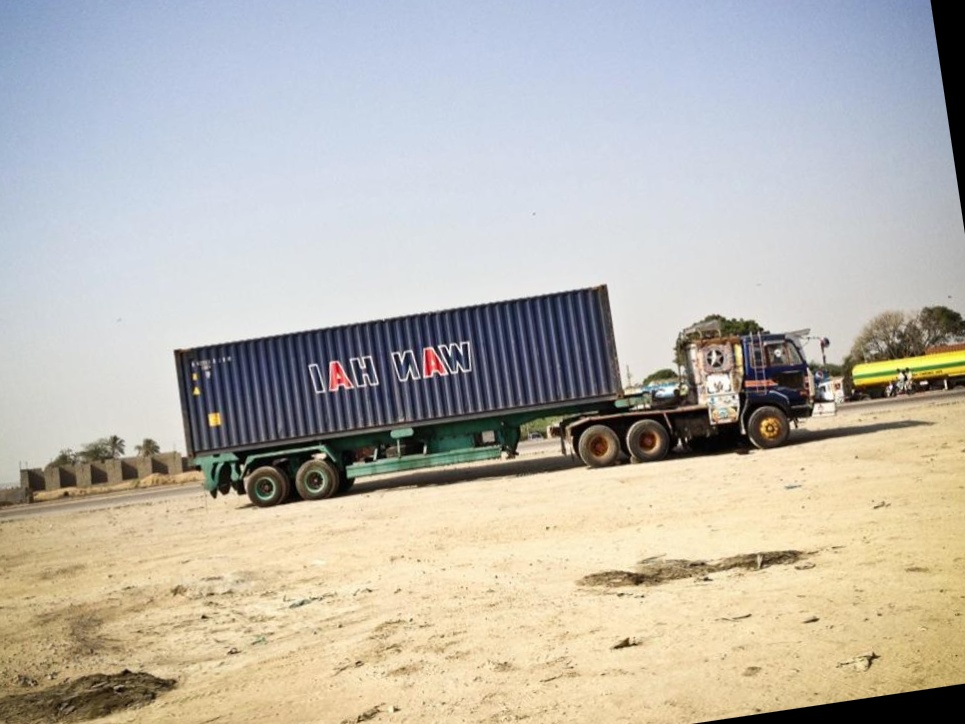truck: (172, 254, 823, 533)
